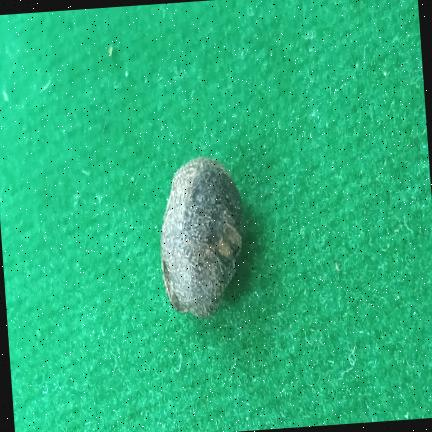partial-black: (160, 157, 243, 317)
